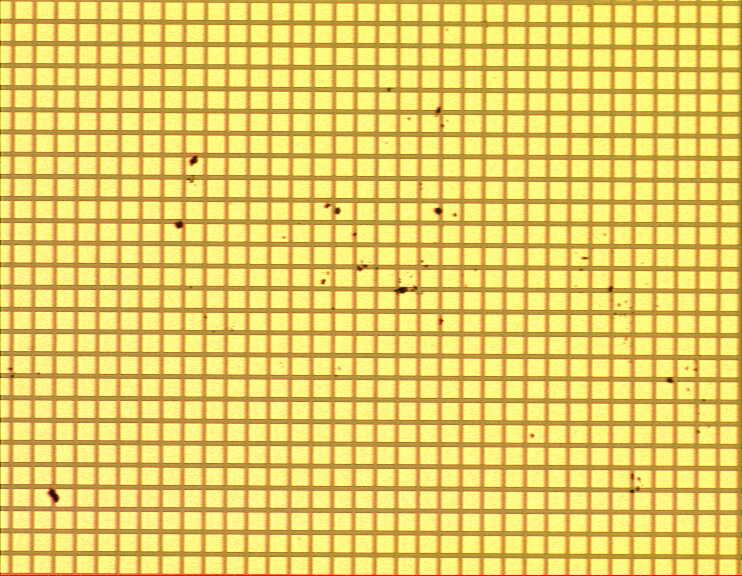PO CONTAMINATION: (5, 84, 715, 508)
